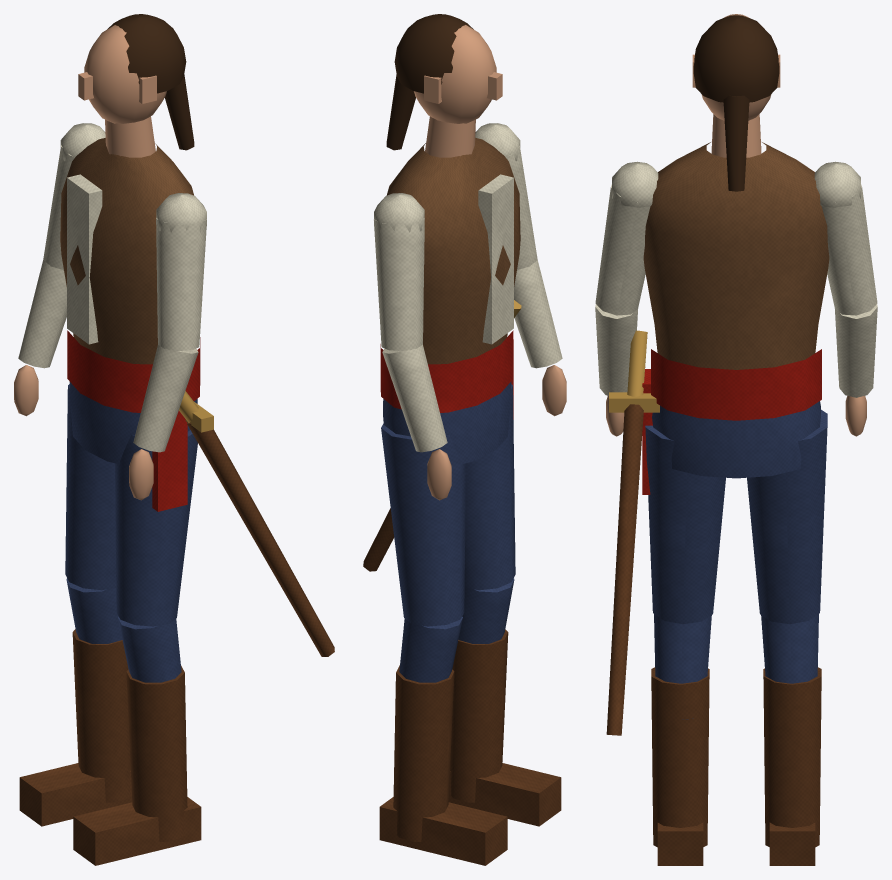
Rendered from SM_Art_Figure_jake.gltf.
3 renders of one model, left to right at view 1: azimuth 30°, elevation 25°; view 2: azimuth 150°, elevation 25°; view 3: azimuth 270°, elevation 25°, orthographic. The views are drawn at different scales.
Parts seen in each view (by area): view 1: SM_Art_Figure_jake; view 2: SM_Art_Figure_jake; view 3: SM_Art_Figure_jake.
Part boxes in pixels (x1,y1,x2,y2): SM_Art_Figure_jake: (14, 14, 334, 865); SM_Art_Figure_jake: (363, 14, 566, 865); SM_Art_Figure_jake: (595, 14, 877, 865).
Size of the model in its own units: 0.5254 by 1.84 by 0.5654.
8 materials, 5 textured.
